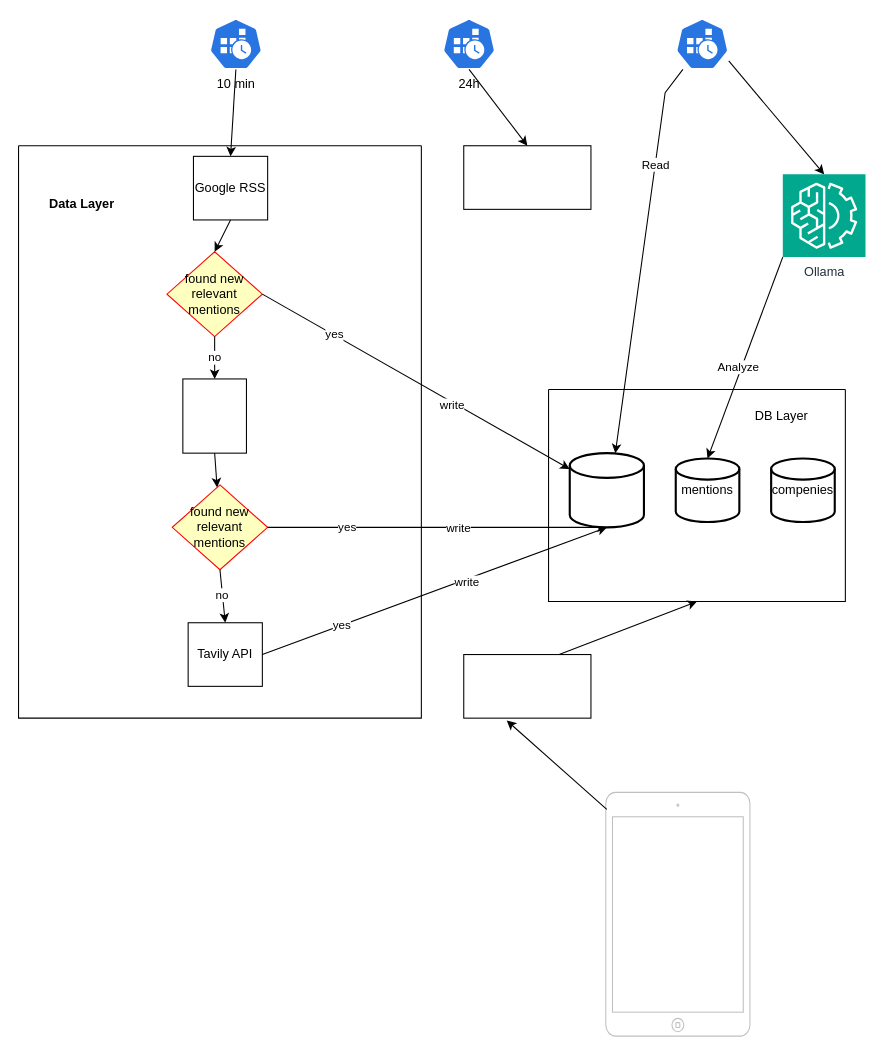
Some shapes in this 884 by 1055 pixel diagram are drawn without their labels. The shapes that lost their labels are listed below. From the top down, each one's centre as x and y in pixels, then its label:
At point 702,43: "5 min".
At point 527,177: "Chek alert process".
At point 214,415: "newsapi".
At point 606,490: "mentions Q".
At point 527,685: "Gateway API".
